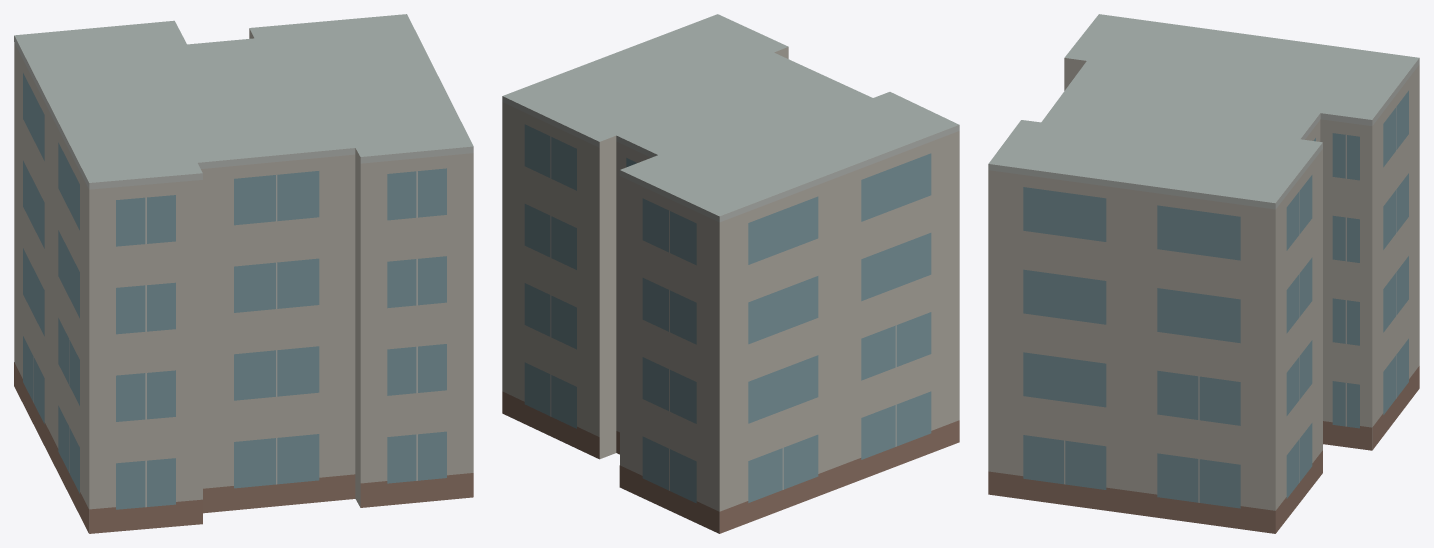
Rendered from survey-upis-32490351.glb.
3 renders of one model, left to right at view 1: azimuth 30°, elevation 25°; view 2: azimuth 150°, elevation 25°; view 3: azimuth 270°, elevation 25°, orthographic. The views are drawn at different scales.
Visible parts, largest first — view 1: survey-upis-32490351.tmp; view 2: survey-upis-32490351.tmp; view 3: survey-upis-32490351.tmp.
Part boxes in pixels (left/top/right/bottom): survey-upis-32490351.tmp: left=14, top=14, right=473, bottom=533; survey-upis-32490351.tmp: left=502, top=14, right=959, bottom=533; survey-upis-32490351.tmp: left=988, top=14, right=1419, bottom=533.
Size of the model in its own units: 15.91 by 12.95 by 15.32.
